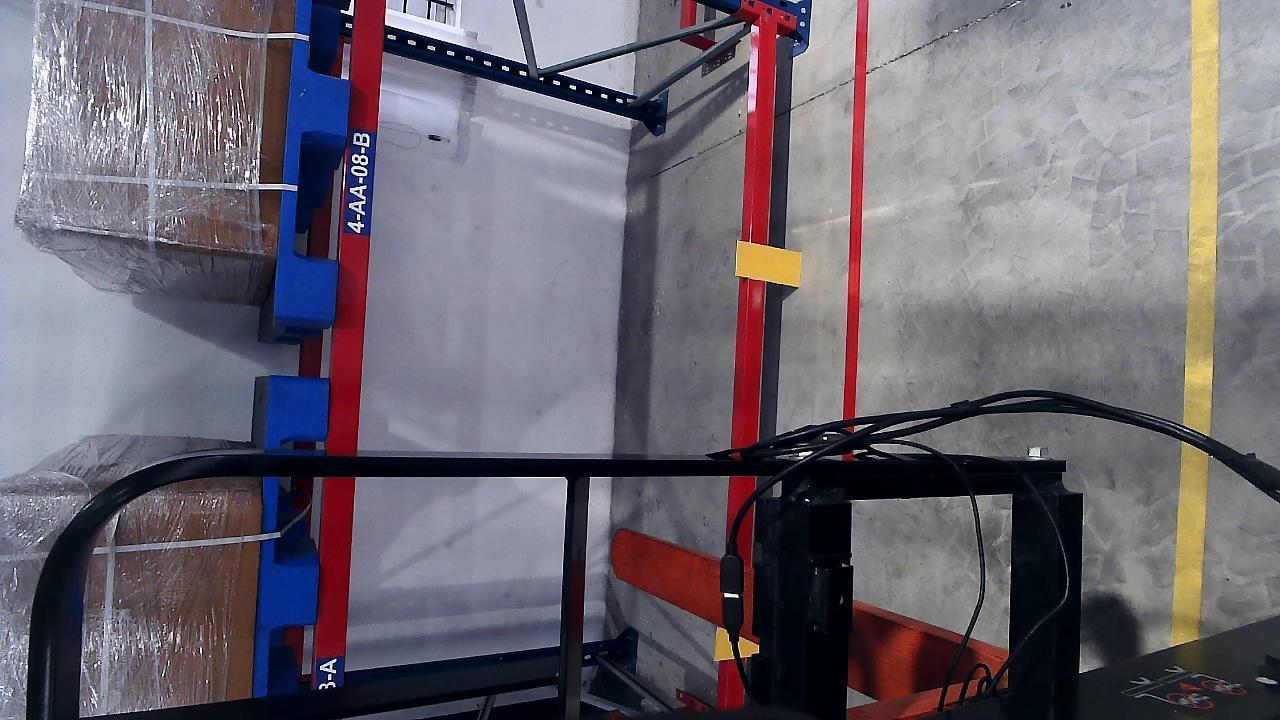red_line: (842, 7, 869, 417)
yellow_line: (1173, 0, 1221, 648)
